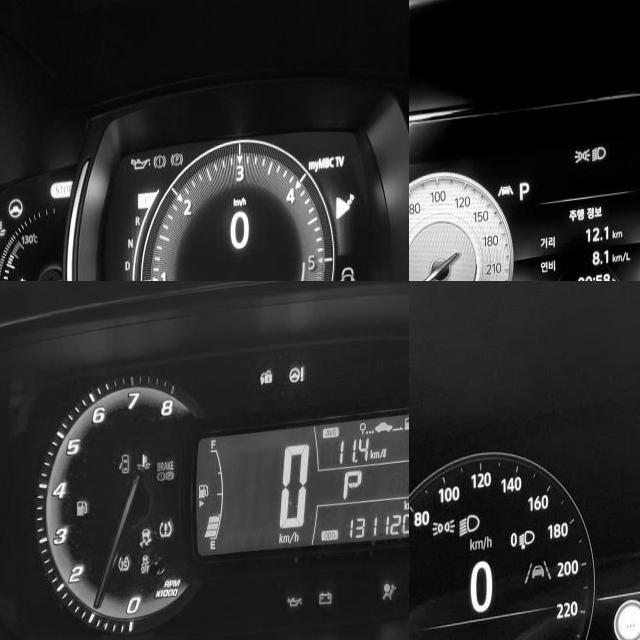Doors: (118, 458, 130, 481)
Engine cooling system: (136, 458, 150, 477), (0, 219, 5, 240)
Low beam: (458, 514, 479, 540), (590, 153, 606, 172)
Low fuel level: (75, 503, 87, 520)
SideLamp: (431, 520, 455, 538), (574, 155, 590, 172)
